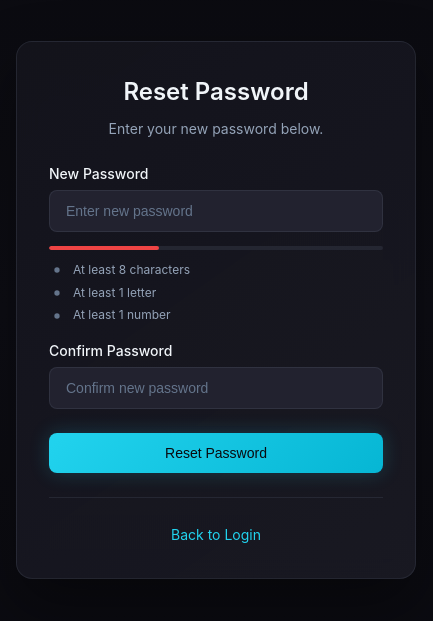
Test: ResetPassword Page › should validate password requirements
// Enter weak password
Type "weak" into the password field with test id "new-password-input" at (216, 211), box [49, 190, 383, 232]
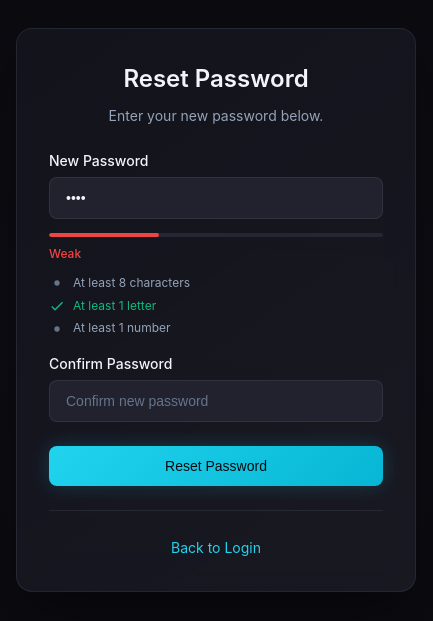
Type "weak" into the password field with test id "confirm-password-input" at (216, 401), box [49, 380, 383, 422]
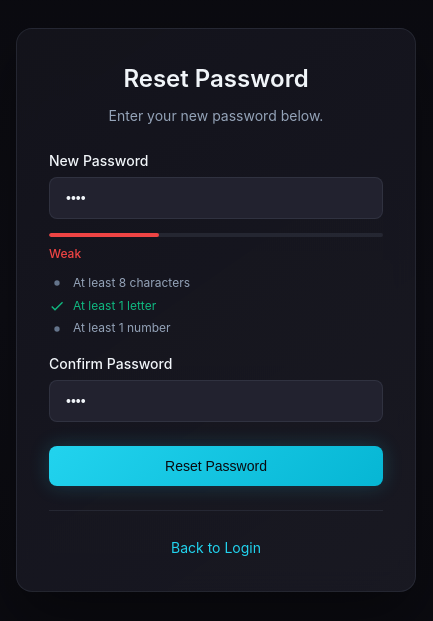
// Submit form
Click the button with test id "reset-password-submit" at (216, 466), box [49, 446, 383, 486]
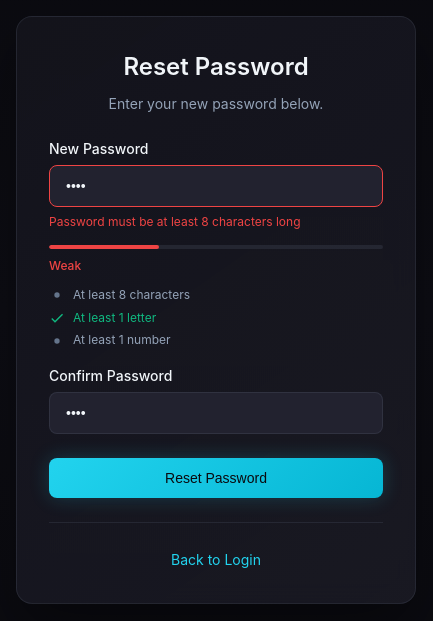
Expected: the message "Password must be at least 8 characters long" is shown, [49, 214, 300, 229]
